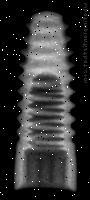NucleOSS: (11, 9, 78, 193)
